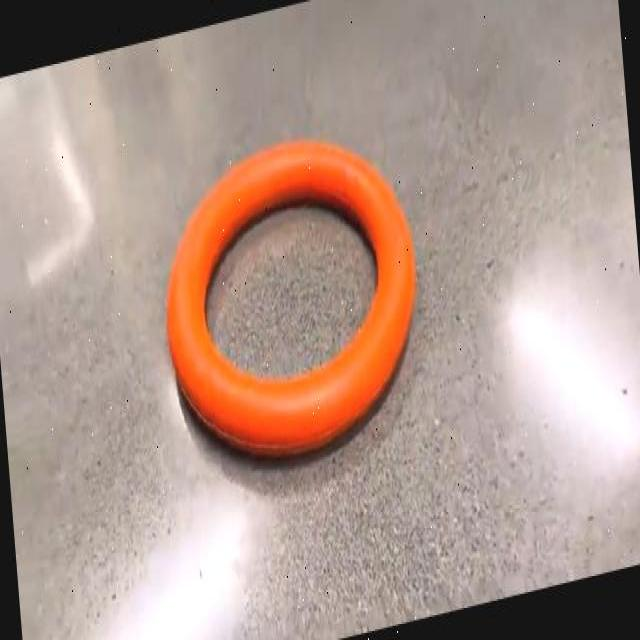note: (167, 140, 415, 455)
